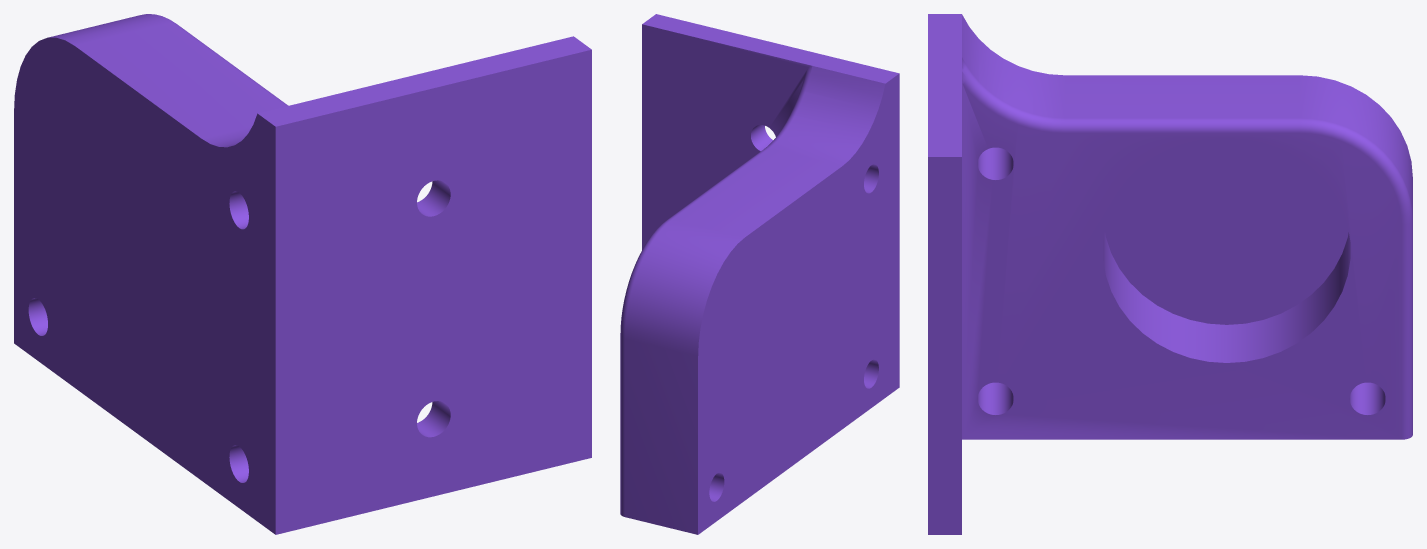
Rendered from uchwyt_lewy_wal.obj.
3 views of the same model, side by side, from view 1: azimuth 30°, elevation 25°; view 2: azimuth 150°, elevation 25°; view 3: azimuth 270°, elevation 25° (orthographic). The views are drawn at different scales.
Parts seen in each view (by area): view 1: uchwyt_lewy_wal; view 2: uchwyt_lewy_wal; view 3: uchwyt_lewy_wal.
Part boxes in pixels (x1,y1,x2,y2): uchwyt_lewy_wal: (14, 14, 591, 534); uchwyt_lewy_wal: (620, 14, 899, 534); uchwyt_lewy_wal: (928, 14, 1412, 534).
Size of the model in its own units: 30 by 37 by 43.
